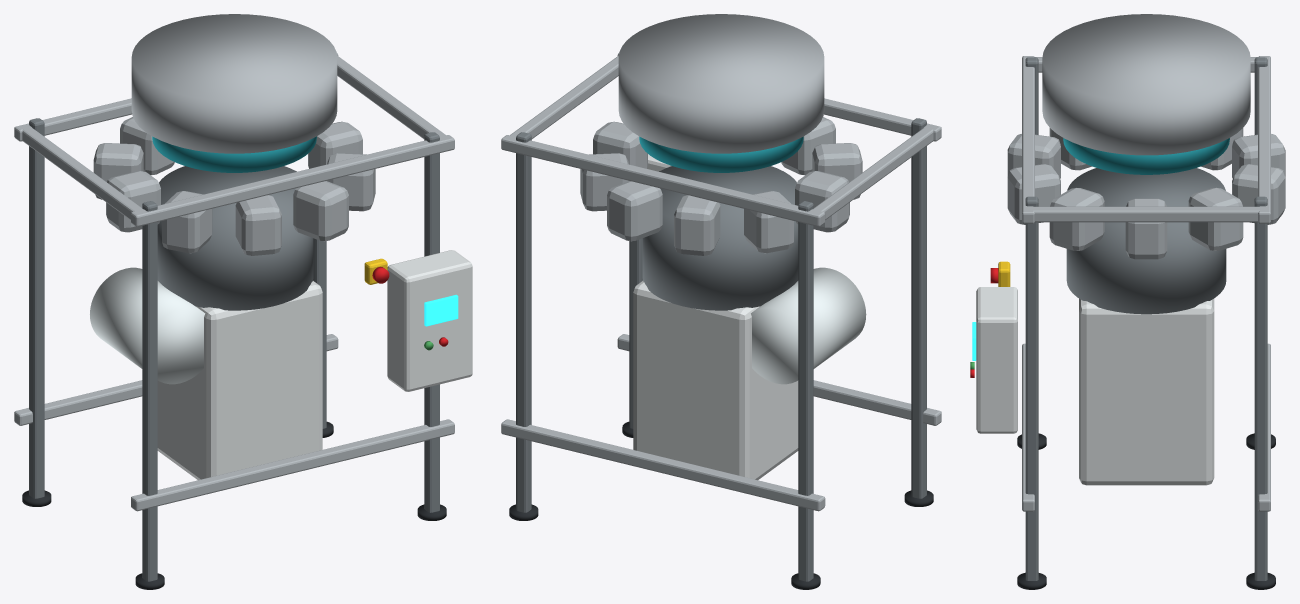
File: weigh-packer.glb
3 views of the same model, side by side, from view 1: azimuth 30°, elevation 25°; view 2: azimuth 150°, elevation 25°; view 3: azimuth 270°, elevation 25° (orthographic).
Parts seen in each view (by area): view 1: top_hopper, vertical_body, collection_funnel, cabinet, film_roll, leg_2, leg_1, frame_cross_x, frame_cross_x.002, leg_3, distribution_cone, bucket_09 (+13 smaller); view 2: top_hopper, vertical_body, collection_funnel, film_roll, leg_1, leg_2, leg_4, frame_cross_x.001, frame_cross_x.003, distribution_cone, bucket_03, bucket_04 (+11 smaller); view 3: top_hopper, vertical_body, collection_funnel, cabinet, leg_4, leg_3, frame_cross_y.001, distribution_cone, bucket_02, bucket_10, frame_cross_x.002, frame_cross_x.003 (+9 smaller).
Part boxes in pixels (x1,y1,x2,y2): top_hopper: (131, 14, 337, 153); vertical_body: (157, 281, 322, 480); collection_funnel: (157, 166, 313, 310); cabinet: (387, 250, 472, 391); film_roll: (90, 267, 205, 384); leg_2: (29, 118, 44, 498); leg_1: (142, 201, 157, 581); frame_cross_x: (131, 419, 454, 511); frame_cross_x.002: (131, 135, 454, 226); leg_3: (424, 132, 439, 512); distribution_cone: (152, 136, 316, 172); bucket_09: (293, 181, 348, 241); top_hopper: (618, 14, 824, 153); vertical_body: (633, 281, 798, 480); collection_funnel: (642, 166, 798, 310); film_roll: (751, 267, 866, 384); leg_1: (911, 118, 926, 498); leg_2: (798, 201, 813, 581); leg_4: (516, 132, 531, 512); frame_cross_x.001: (501, 419, 825, 511); frame_cross_x.003: (501, 135, 825, 226); distribution_cone: (639, 136, 803, 172); bucket_03: (607, 181, 662, 241); bucket_04: (674, 195, 720, 255); top_hopper: (1042, 14, 1250, 155); vertical_body: (1079, 298, 1214, 485); collection_funnel: (1066, 168, 1226, 314); cabinet: (976, 287, 1017, 433); leg_4: (1254, 196, 1267, 580); leg_3: (1025, 196, 1038, 580); frame_cross_y.001: (1025, 206, 1267, 222); distribution_cone: (1063, 138, 1229, 174); bucket_02: (1188, 187, 1243, 250); bucket_10: (1049, 188, 1104, 250); frame_cross_x.002: (1022, 56, 1034, 223); frame_cross_x.003: (1258, 56, 1270, 223).
Size of the model in its own units: 2.15 by 2.9 by 1.82.
